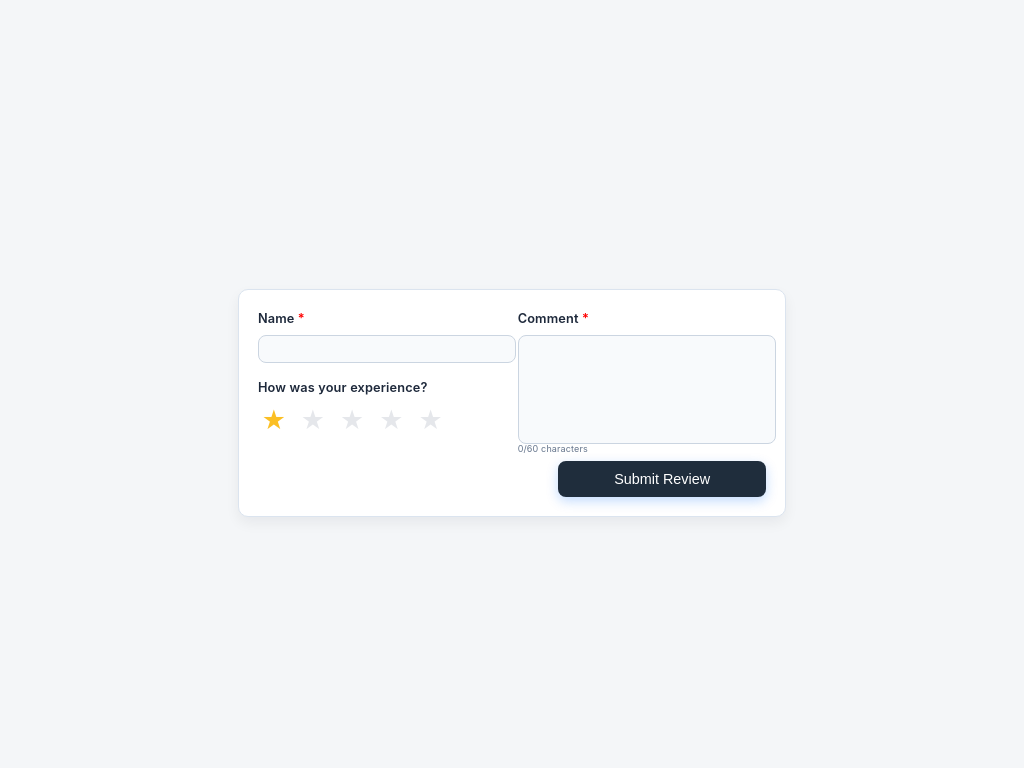
Test case: ReviewForm › shows validation errors when form is invalid
Click the button "Submit Review": click(662, 479) [558,461,766,497]
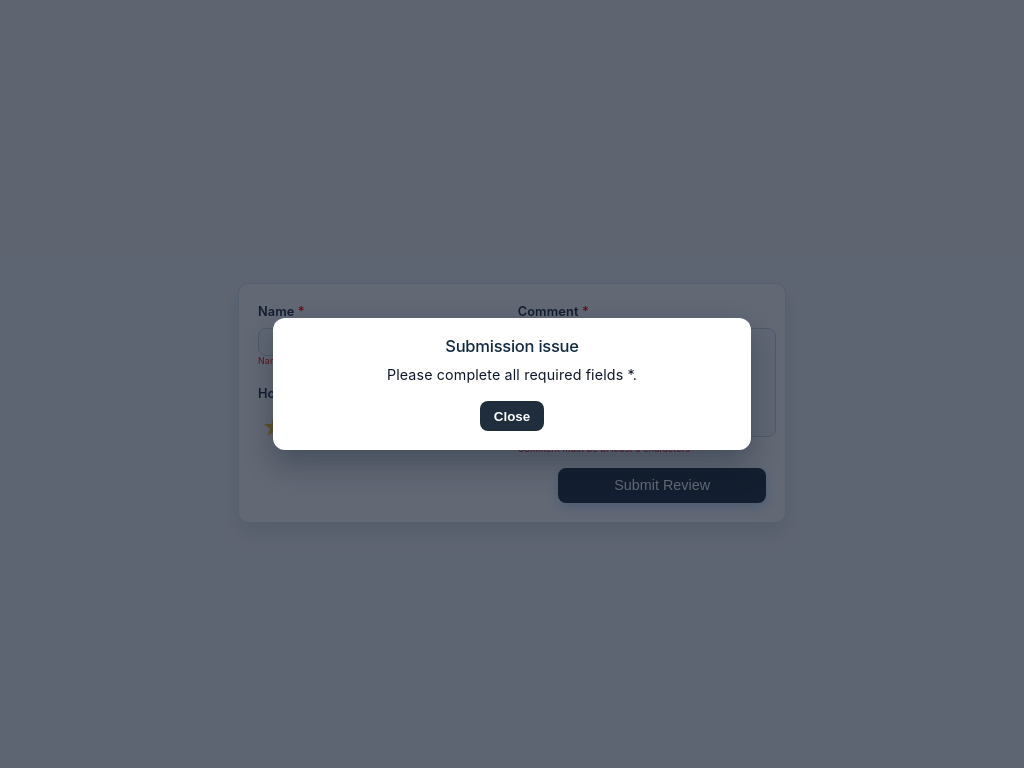
Result: the text "Name must be at least 2 characters" is shown once at [258,356,414,366]
Result: the text "Comment must be at least 5 characters" is shown once at [518,443,690,454]
